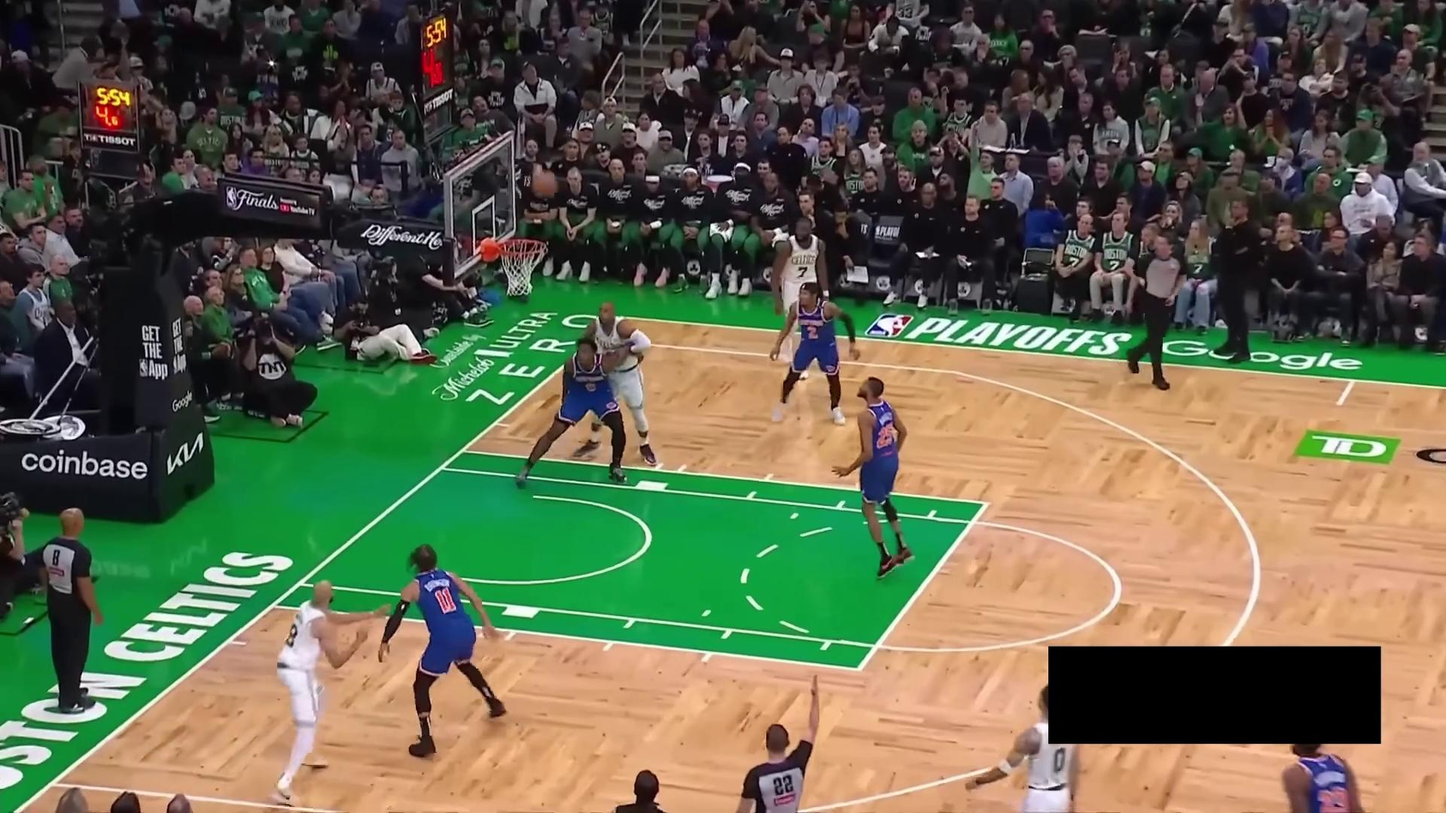ball: (534, 171, 556, 197)
number: (1317, 784, 1351, 813), (431, 586, 457, 614), (875, 420, 896, 449), (1052, 746, 1068, 773), (285, 622, 300, 645), (806, 324, 819, 341), (796, 264, 808, 279), (586, 381, 597, 393)
player: (377, 543, 514, 757), (271, 575, 391, 809), (514, 338, 648, 487), (828, 374, 921, 576), (963, 681, 1086, 813), (567, 299, 662, 467), (767, 275, 863, 426), (769, 212, 834, 382), (1278, 742, 1368, 813)
referee: (33, 505, 109, 715), (732, 672, 823, 813), (1124, 232, 1190, 390)
rim: (500, 236, 548, 257)
